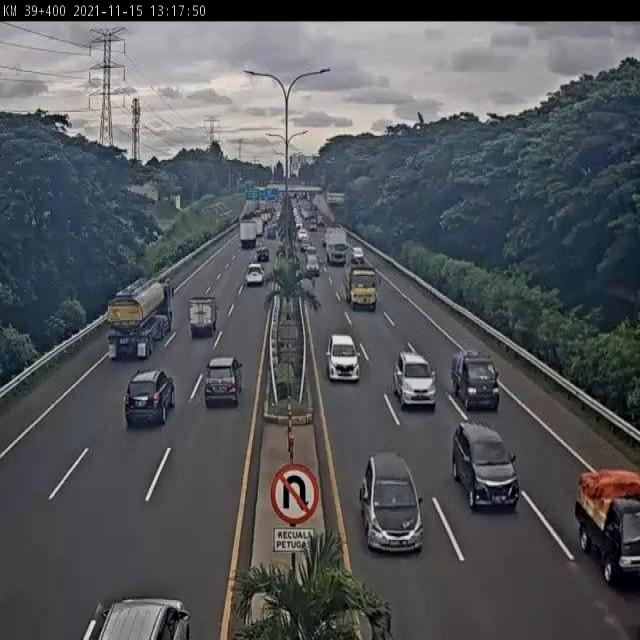Car: (358, 450, 424, 552), (452, 419, 520, 509), (80, 595, 193, 638), (123, 368, 176, 428), (392, 349, 437, 409), (204, 355, 243, 408), (324, 334, 363, 384), (246, 263, 264, 287), (305, 253, 320, 277), (256, 244, 270, 262), (351, 246, 364, 265), (298, 228, 308, 244)
Truck: (574, 472, 640, 586), (104, 275, 173, 362), (345, 260, 379, 310), (189, 294, 219, 338), (239, 220, 257, 249)
Van: (451, 349, 500, 411)
